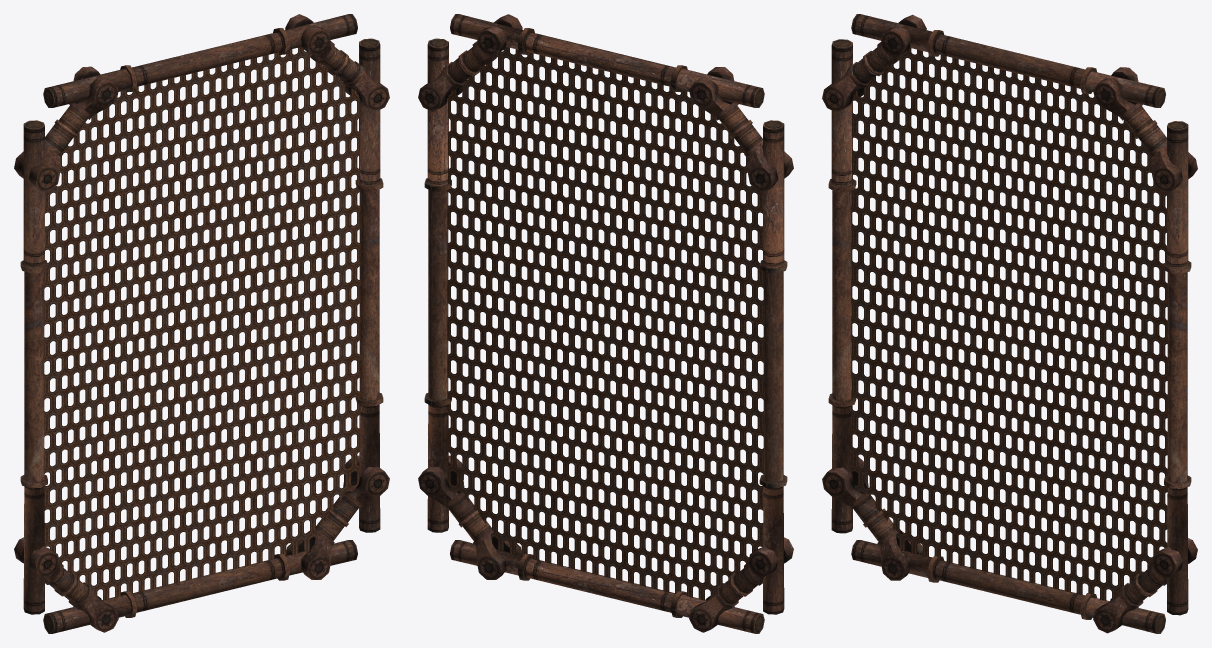
The model's file is girder_rusty_scaffold_grating.dae.
3 views of the same model, side by side, from view 1: azimuth 30°, elevation 25°; view 2: azimuth 150°, elevation 25°; view 3: azimuth 330°, elevation 25° (orthographic).
Parts seen in each view (by area): view 1: grating, girder_scaffold_grating_rusty; view 2: grating, girder_scaffold_grating_rusty; view 3: grating, girder_scaffold_grating_rusty.
Boxes of the visible parts, bbox=[...] form: grating: bbox=[44, 47, 360, 600]; girder_scaffold_grating_rusty: bbox=[14, 14, 389, 633]; grating: bbox=[447, 47, 763, 600]; girder_scaffold_grating_rusty: bbox=[418, 14, 793, 633]; grating: bbox=[851, 48, 1167, 600]; girder_scaffold_grating_rusty: bbox=[822, 14, 1197, 633].
Bounding box in the file's own units: 2.15 × 3.14 × 0.2248.
